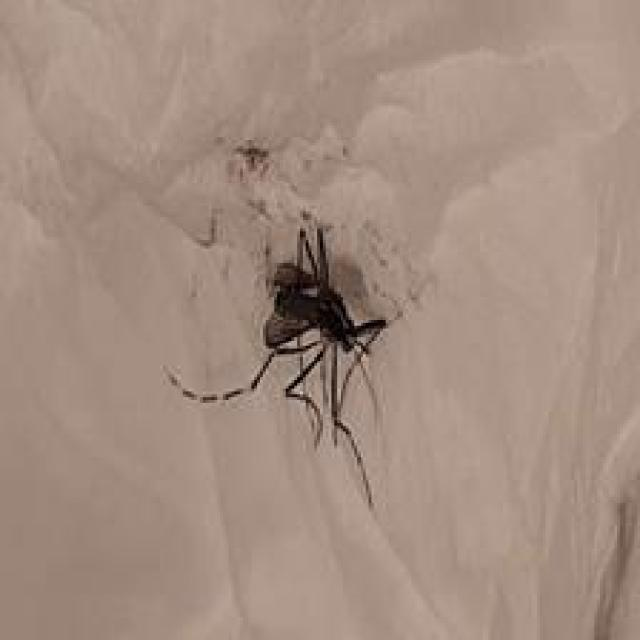Aedes albopictus: (163, 221, 397, 510)
